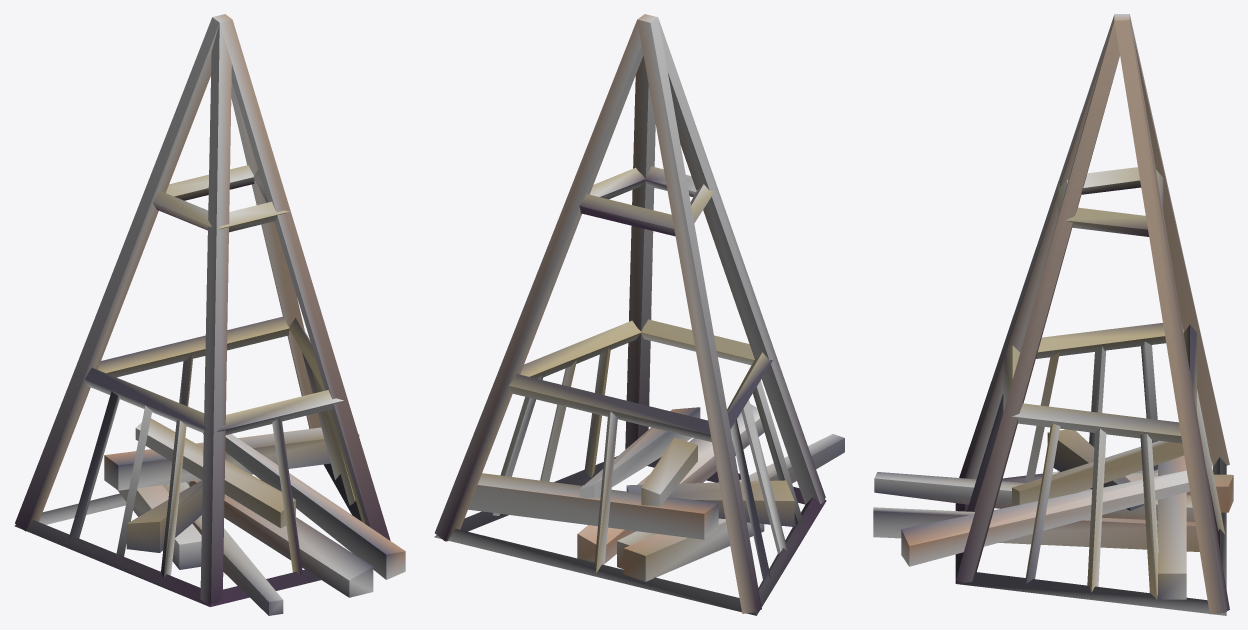
Rendered from masenitsag1V3.fbx.
3 views of the same model, side by side, from view 1: azimuth 30°, elevation 25°; view 2: azimuth 150°, elevation 25°; view 3: azimuth 270°, elevation 25° (orthographic). The views are drawn at different scales.
Visible parts, largest first — view 1: masenitsag1V3; view 2: masenitsag1V3; view 3: masenitsag1V3.
Part boxes in pixels (x1,y1,x2,y2): masenitsag1V3: (14, 14, 405, 615); masenitsag1V3: (434, 14, 844, 615); masenitsag1V3: (873, 14, 1233, 615).
Size of the model in its own units: 260 by 403 by 251.
